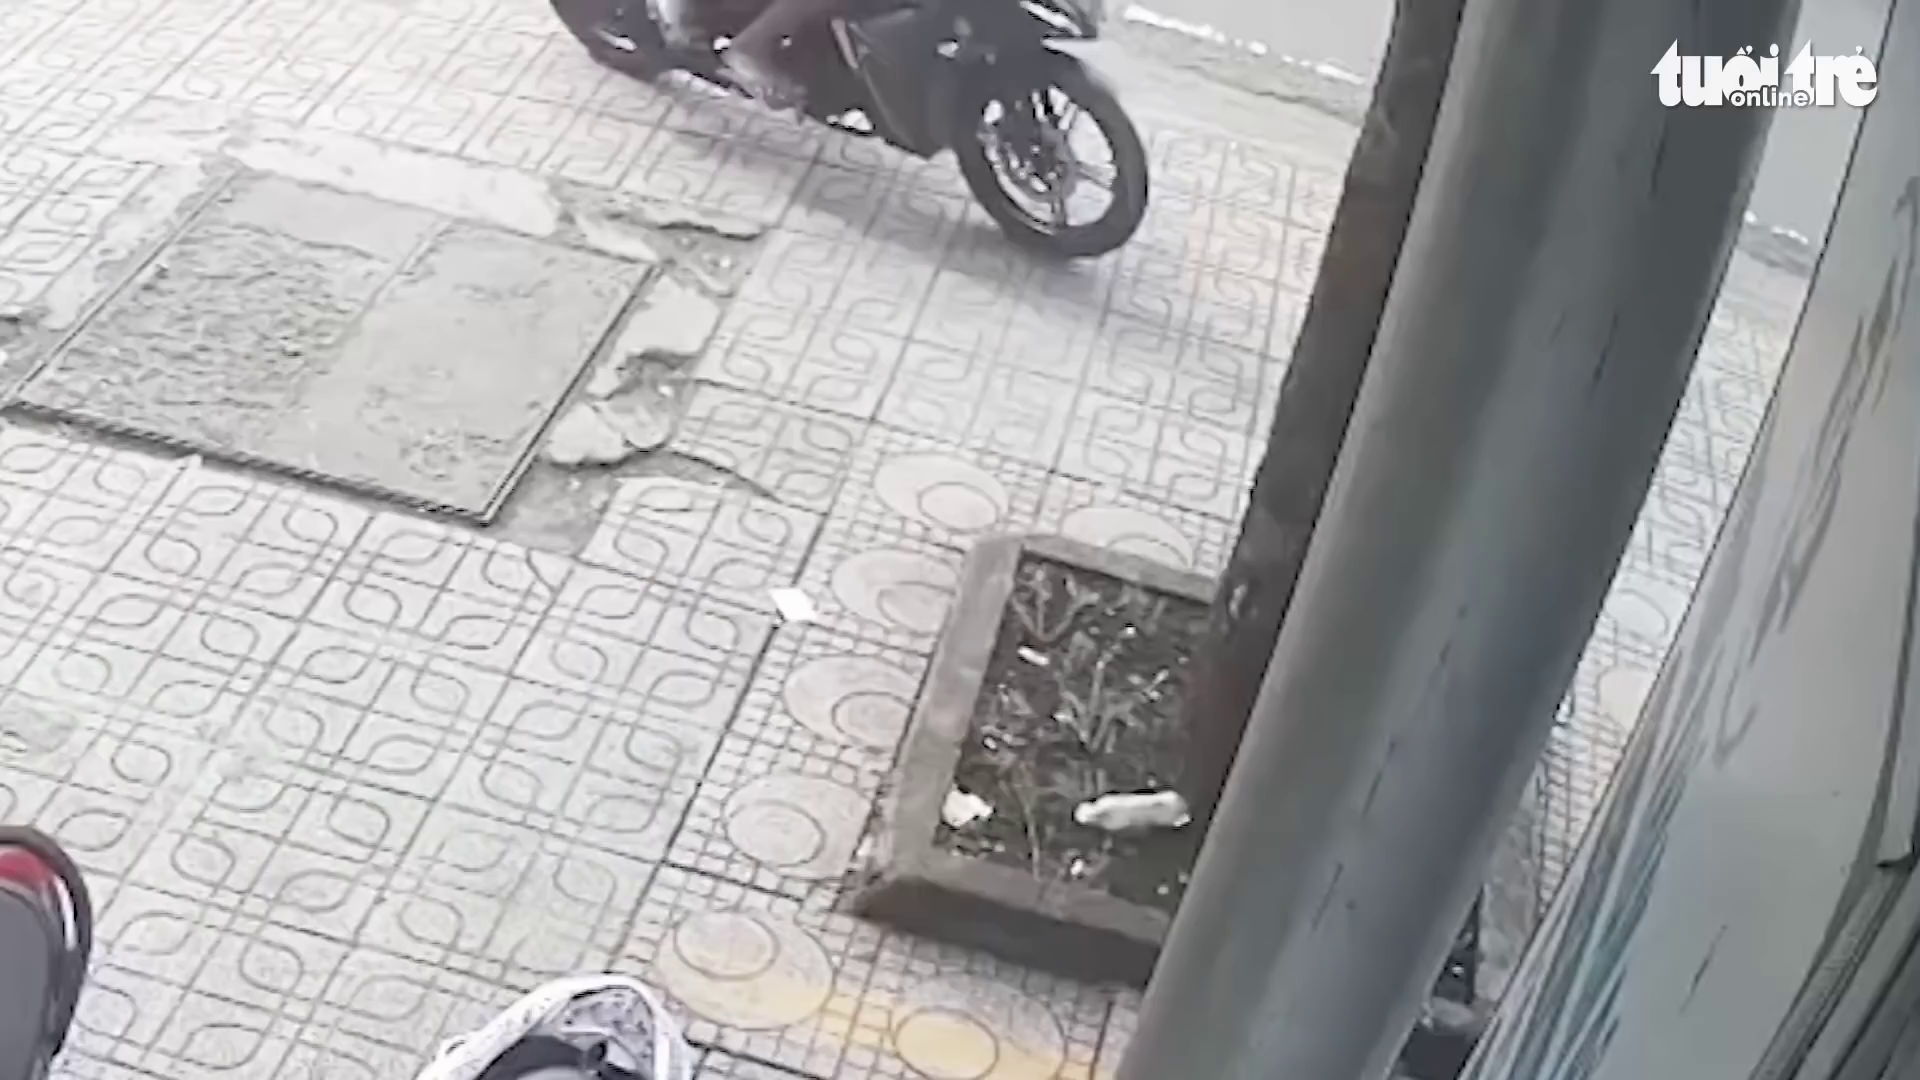Motorcycle: (543, 1, 1151, 262)
